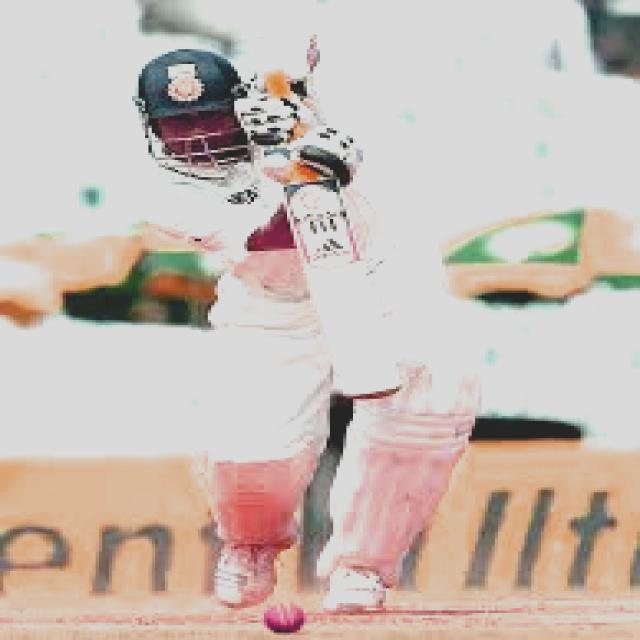toe: (320, 350, 416, 408)
